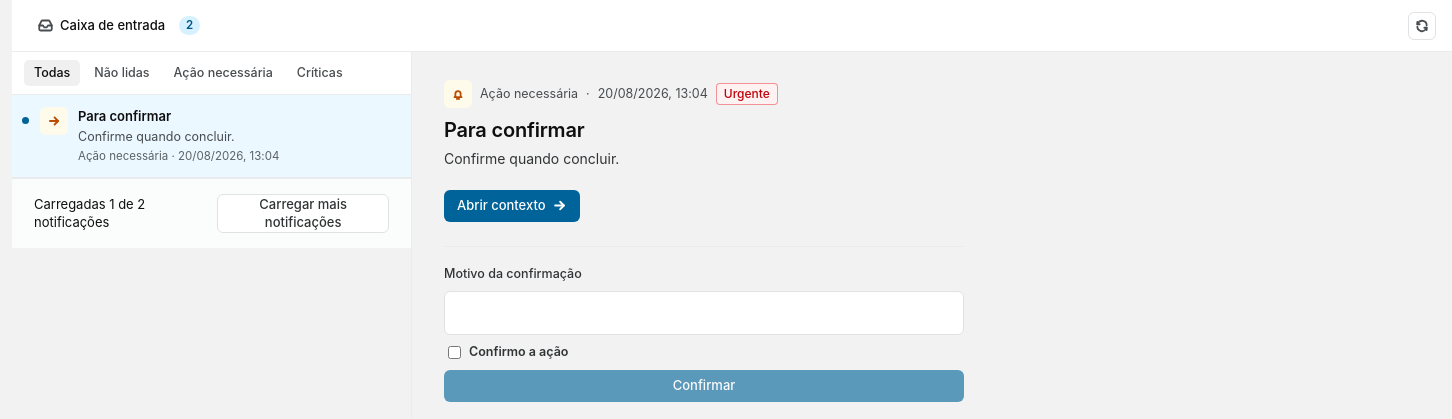
Test: NotificationsView › continues inbox pages without duplicates and keeps confirmed entries when the next page fails
Expected: the heading "Para confirmar" is shown, top-left (444, 118), bottom-right (584, 142)
Click the button "Carregar mais notificações".
click(303, 213)  # box top-left (217, 194), bottom-right (389, 233)
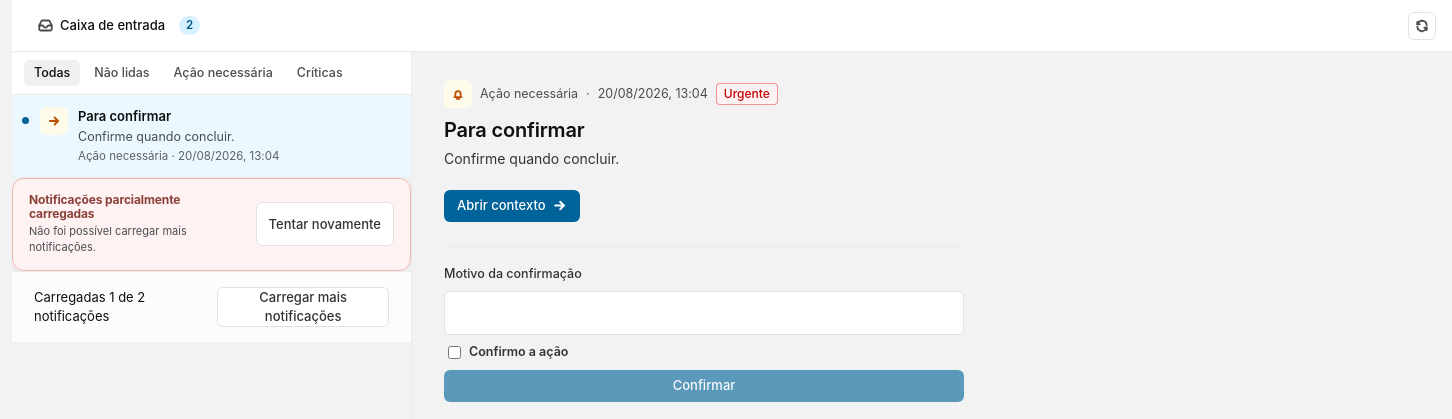
Expected: the heading "Para confirmar" is shown, top-left (444, 118), bottom-right (584, 142)
Now the message is shown, box top-left (12, 178), bottom-right (411, 271)
Click the button "Tentar novamente".
click(325, 224)  # box top-left (256, 202), bottom-right (394, 246)
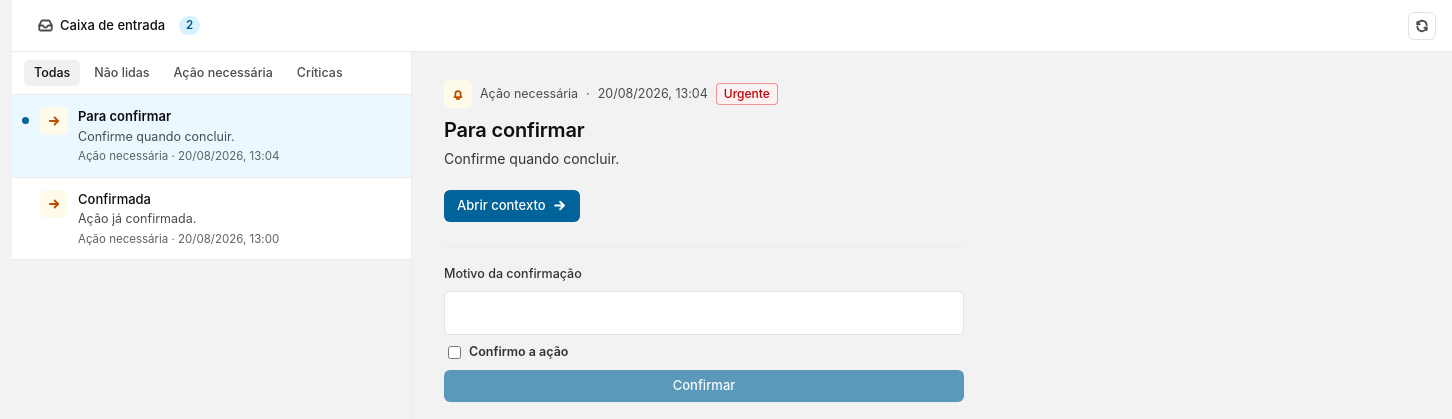
Now the button "Confirmada" is shown, box top-left (12, 178), bottom-right (411, 260)
Now the number of buttons "Para confirmar" is 1, box top-left (12, 95), bottom-right (411, 178)
Now the text "carregar mais notificações" is gone
